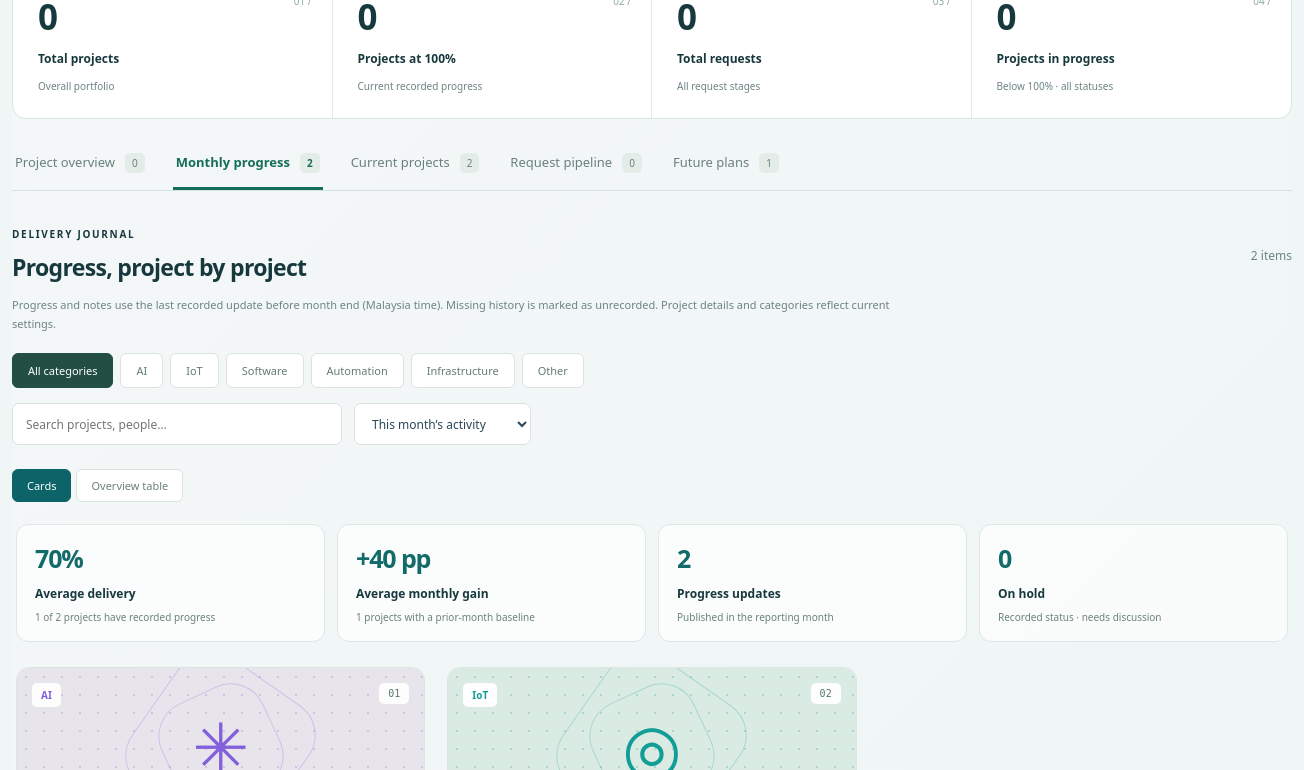
Test case: cancels an interrupted category fade and renders only the latest selection
The image size is (1304, 770).
(page scrolled)
What coordinates should you click on to do the following:
click the button "AI"
I would click on:
 (142, 371)
Its box is [120,353,163,388].
Wait 60 ms
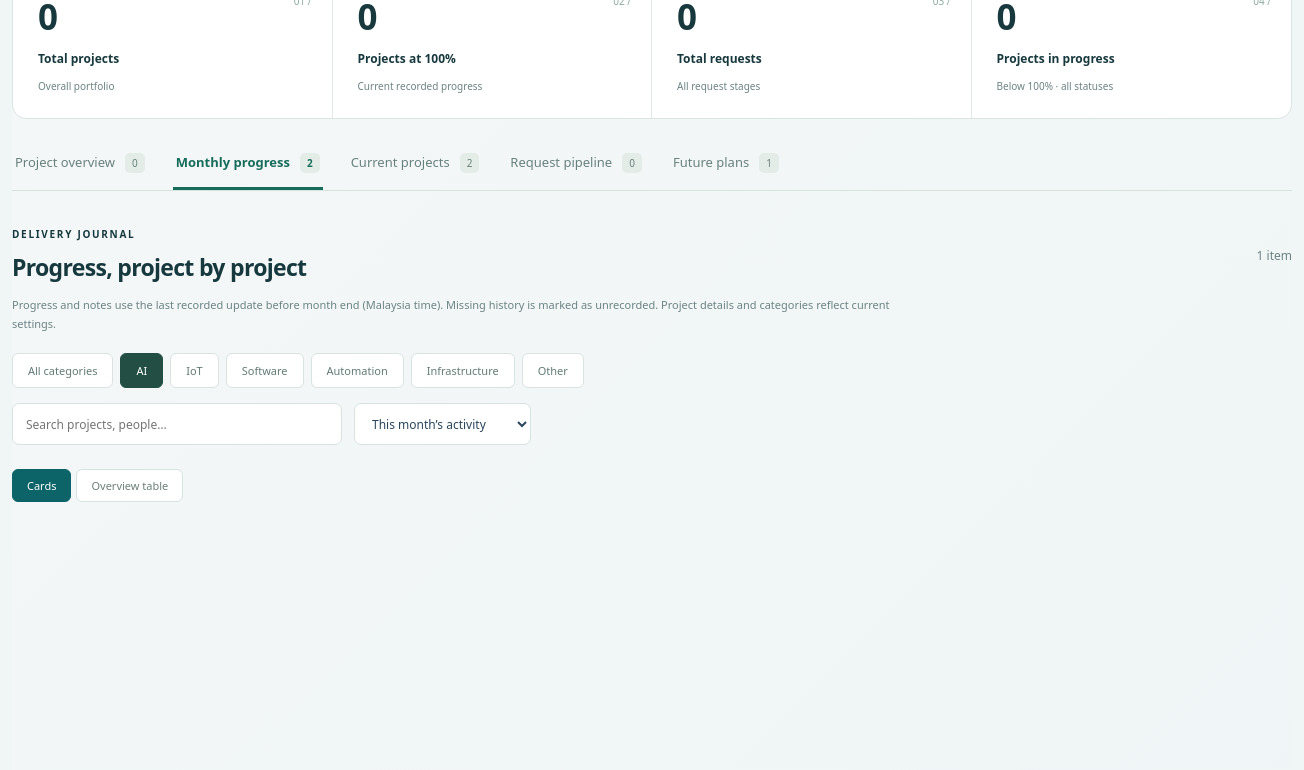
What coordinates should you click on to do the following:
click the button "IoT"
I would click on:
 (194, 371)
Its box is [170,353,219,388].
Wait 160 ms
(page scrolled)
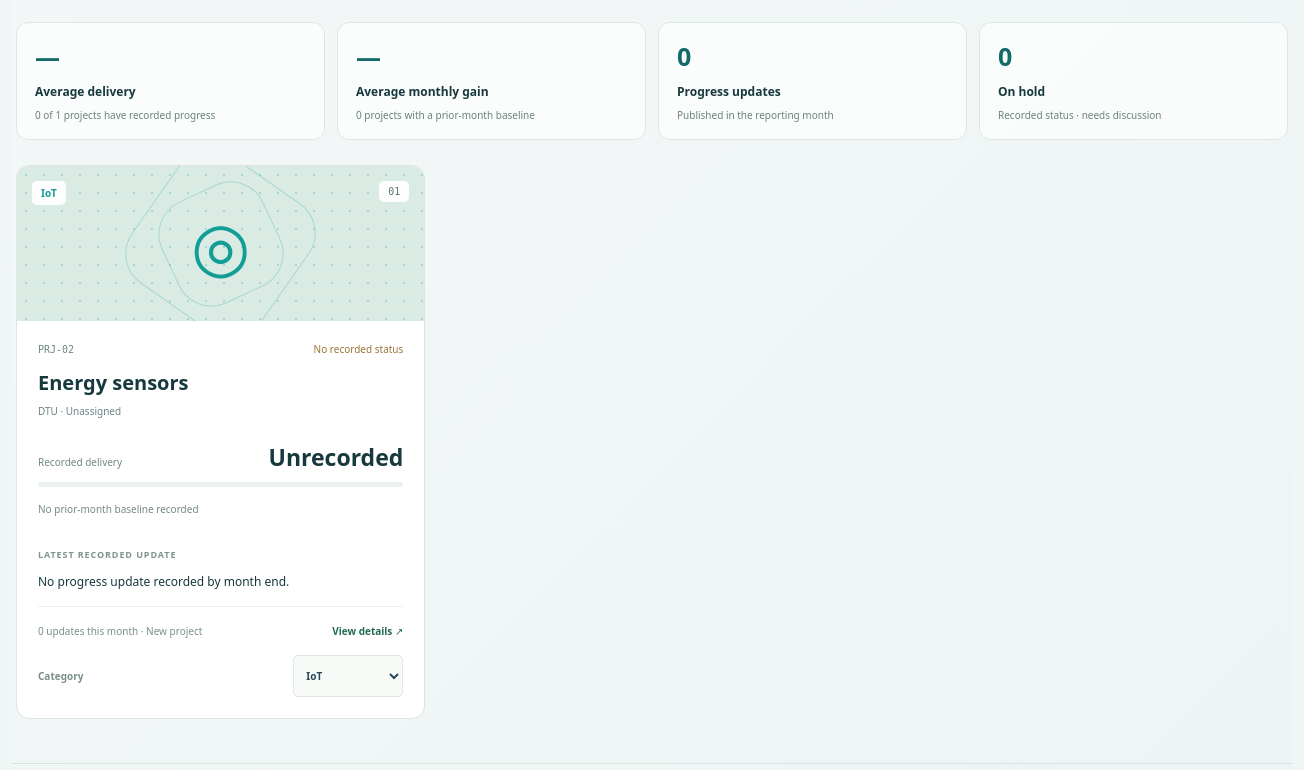
Check: the number of elements with class "mr-card" is 1, box [16,165,425,719]
Check: the element with class "mr-grid" shows "Energy sensors", box [38,370,188,396]
